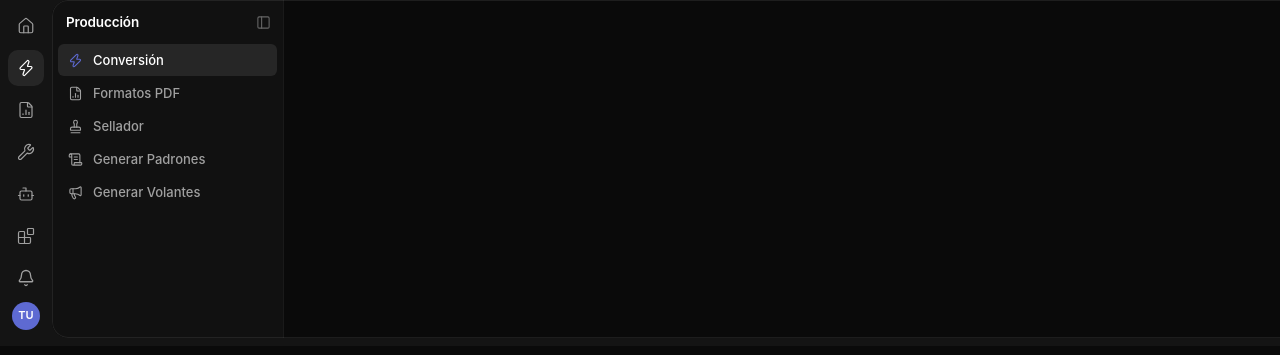
it: Sidebar › switches the panel group from the rail without navigating
This screenshot has width=1280, height=355.
Click the button with test id "sidebar-group-herramientas" at (26,152), box [8, 134, 44, 170]
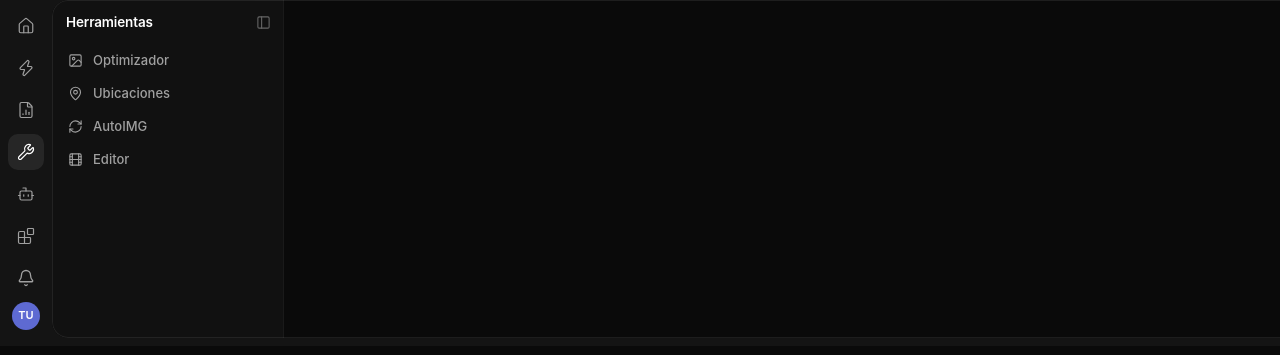
Check: the heading "Herramientas" is shown, box [66, 12, 153, 31]
Check: the button "Optimizador" is shown, box [58, 44, 277, 76]
